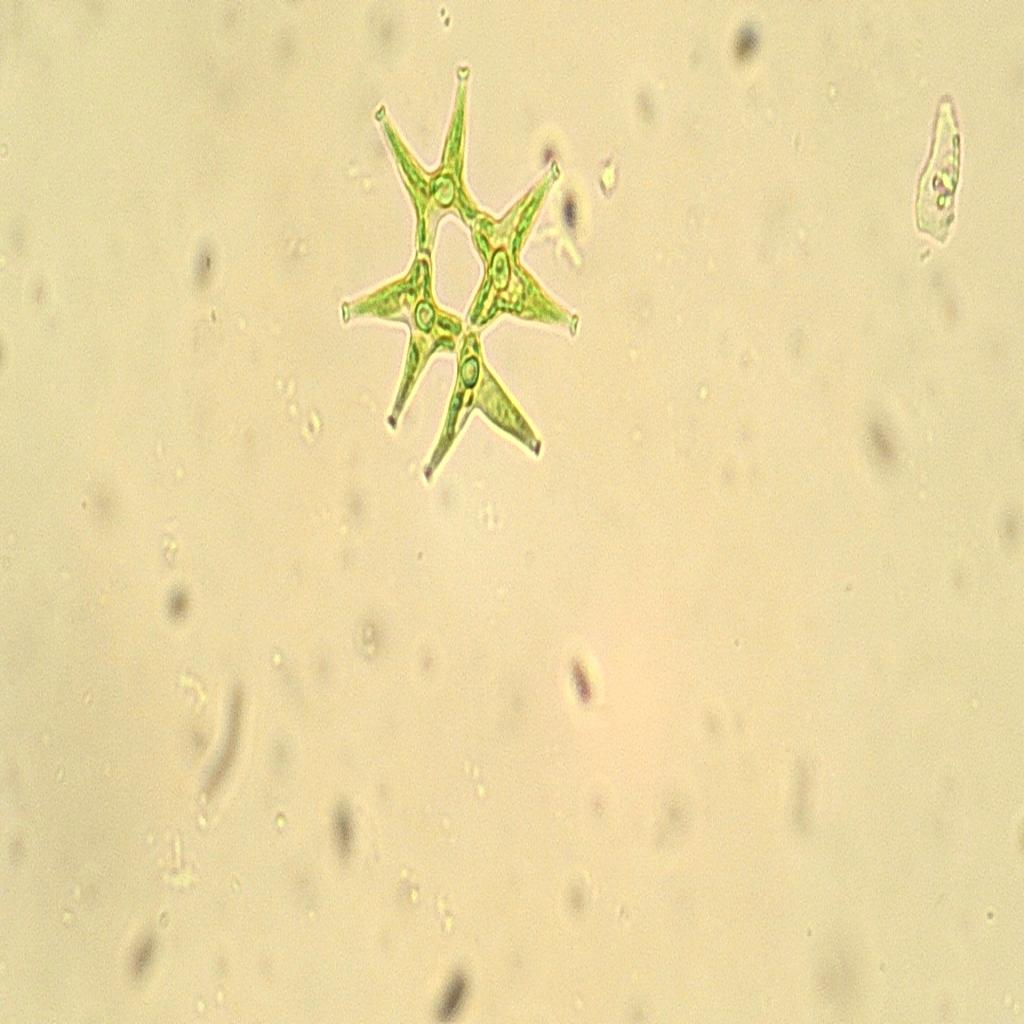Pediastrum_CT: (332, 39, 584, 499)
